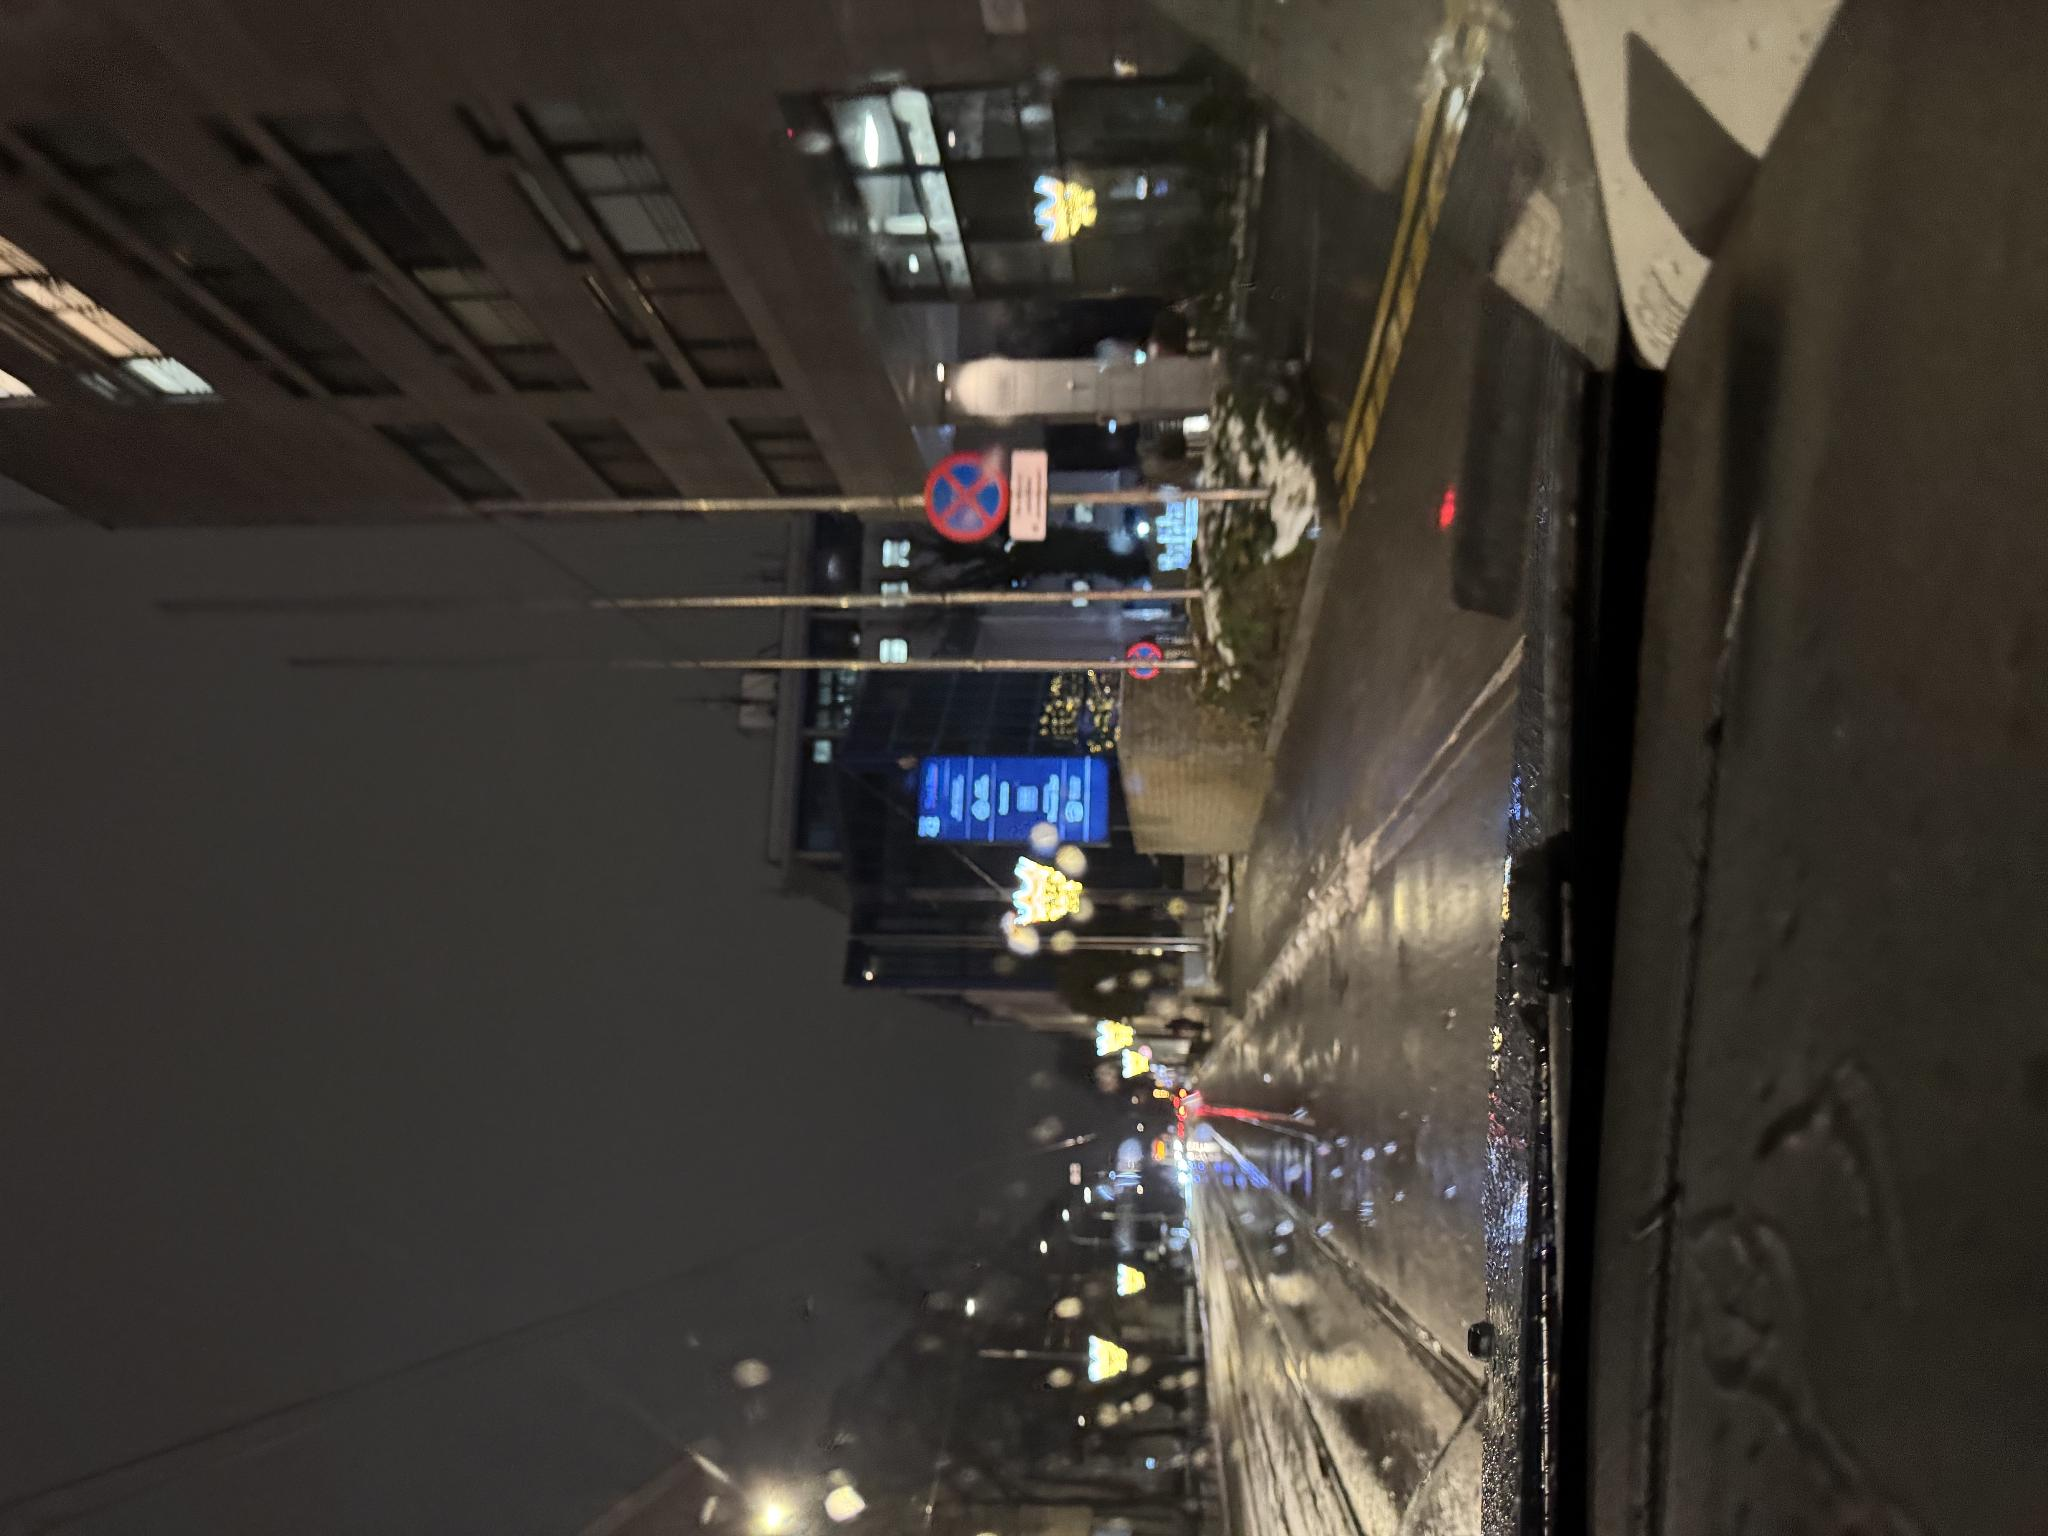other: (993, 1008, 1089, 1047)
prohibitory: (993, 923, 1085, 1008), (877, 1126, 893, 1163), (858, 1128, 868, 1160)
